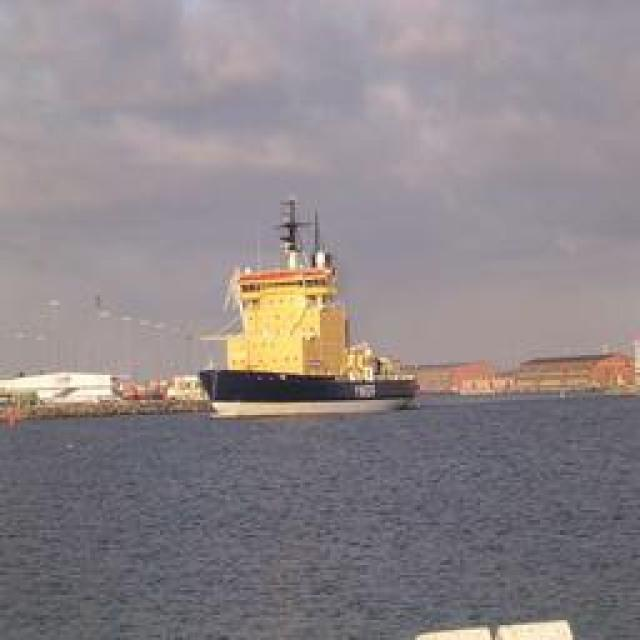ship2: (195, 201, 420, 417)
